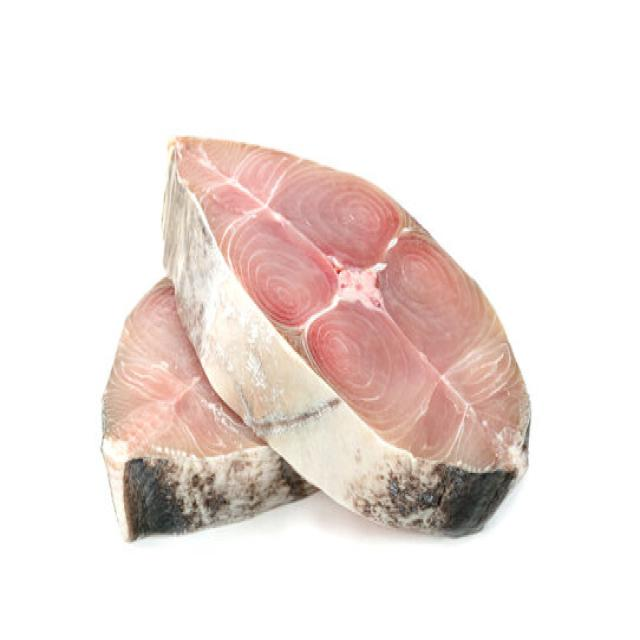Mackerel: (163, 137, 530, 534), (103, 279, 314, 539)
